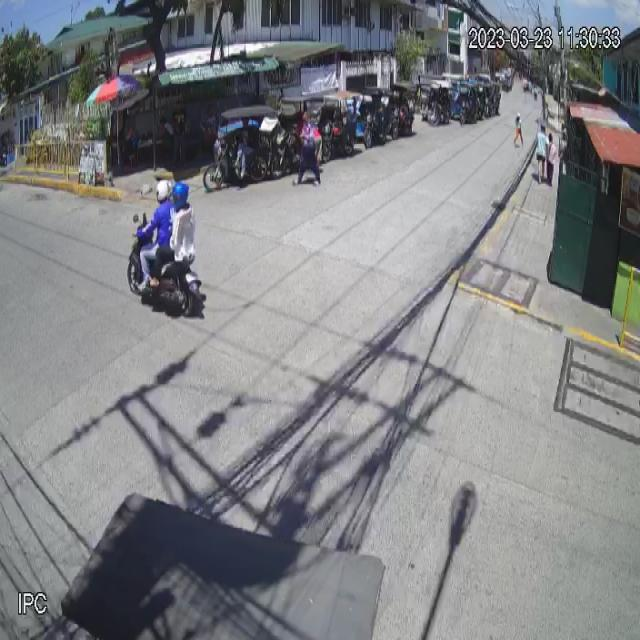Motorcycle: (127, 210, 205, 316)
